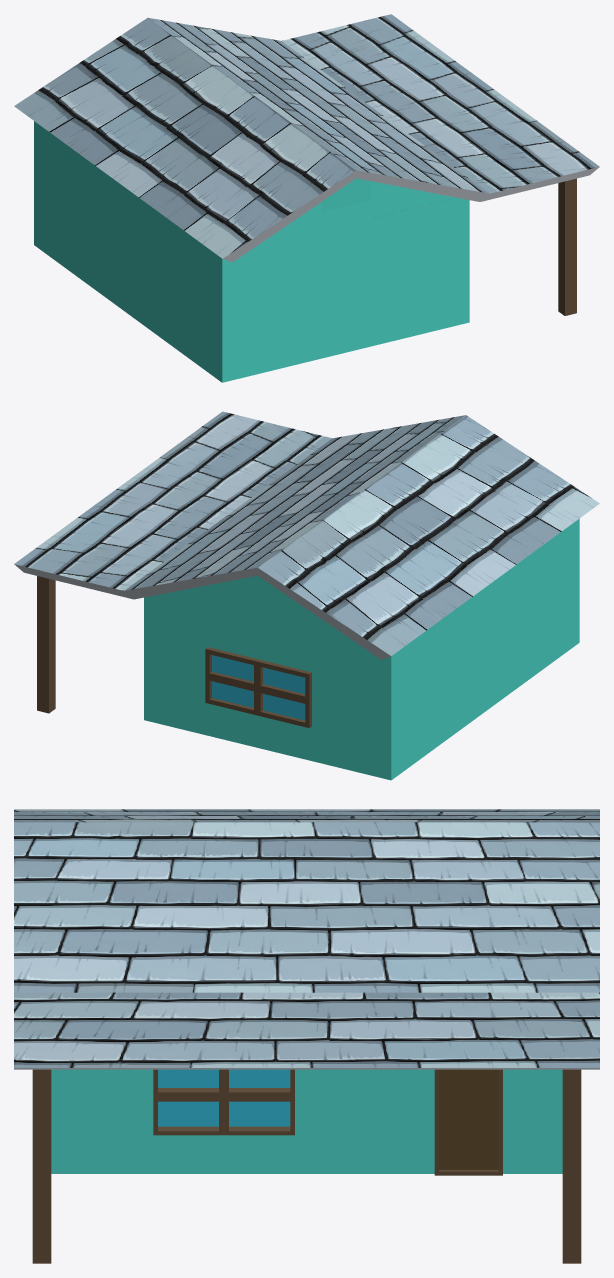
Rendered from CasaColor3.glb.
The picture shows the model from 3 angles, top to bottom: view 1: azimuth 30°, elevation 25°; view 2: azimuth 150°, elevation 25°; view 3: azimuth 270°, elevation 25°; orthographic projection. The views are drawn at different scales.
Parts seen in each view (by area): view 1: techo, Etructura, Soporte; view 2: techo, Etructura, Soporte; view 3: techo, Etructura, vidrio, Soporte, marco.
Boxes of the visible parts, <box> form: techo: <box>14,14,599,262</box>; Etructura: <box>34,121,469,382</box>; Soporte: <box>558,178,576,315</box>; techo: <box>14,411,599,659</box>; Etructura: <box>144,518,579,780</box>; Soporte: <box>37,576,55,713</box>; techo: <box>14,809,599,1069</box>; Etructura: <box>51,1069,562,1173</box>; vidrio: <box>153,1069,294,1135</box>; Soporte: <box>32,1069,581,1263</box>; marco: <box>434,1069,502,1175</box>.
Bounding box in the file's own units: 7.22 × 3.72 × 6.91.
8 materials, 1 textured.
